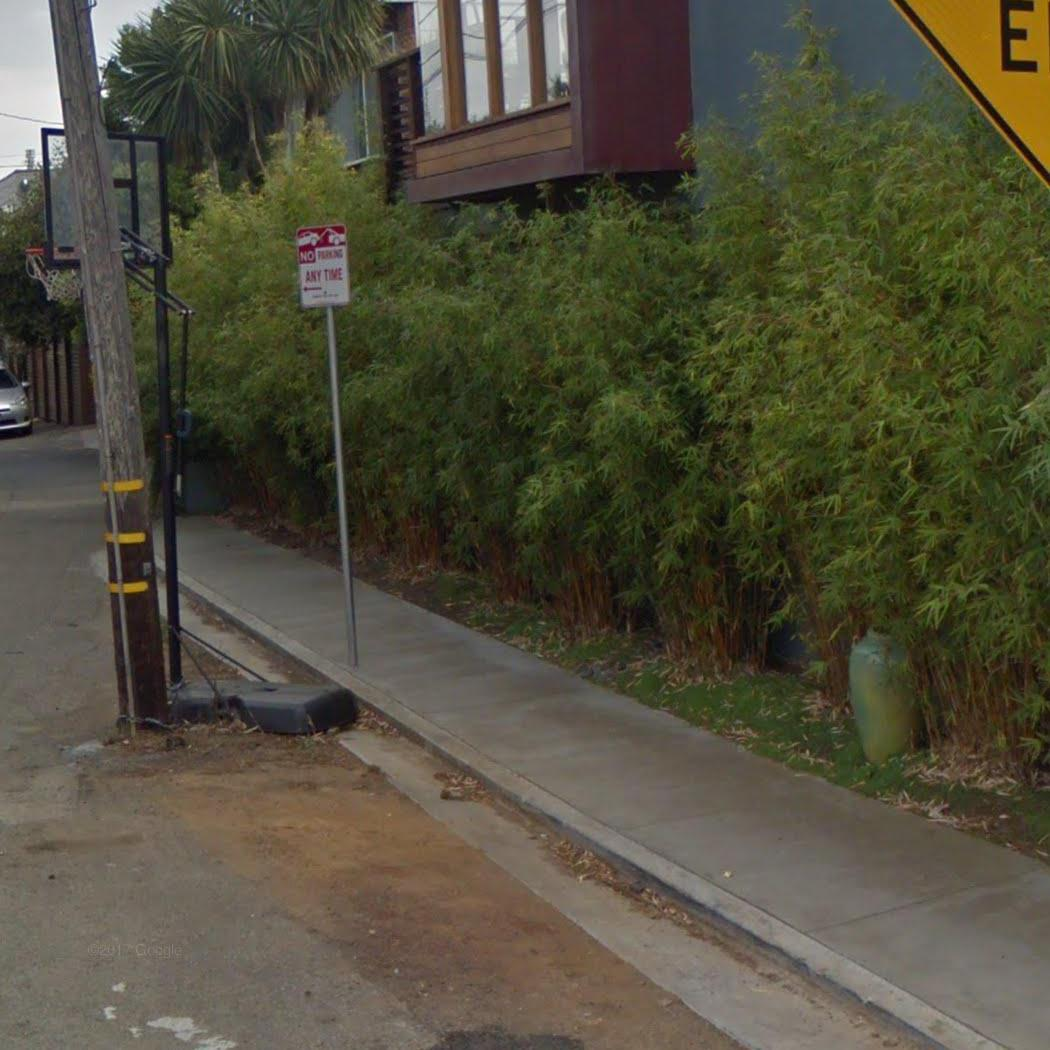No Parking Anytime: (292, 221, 354, 310)
